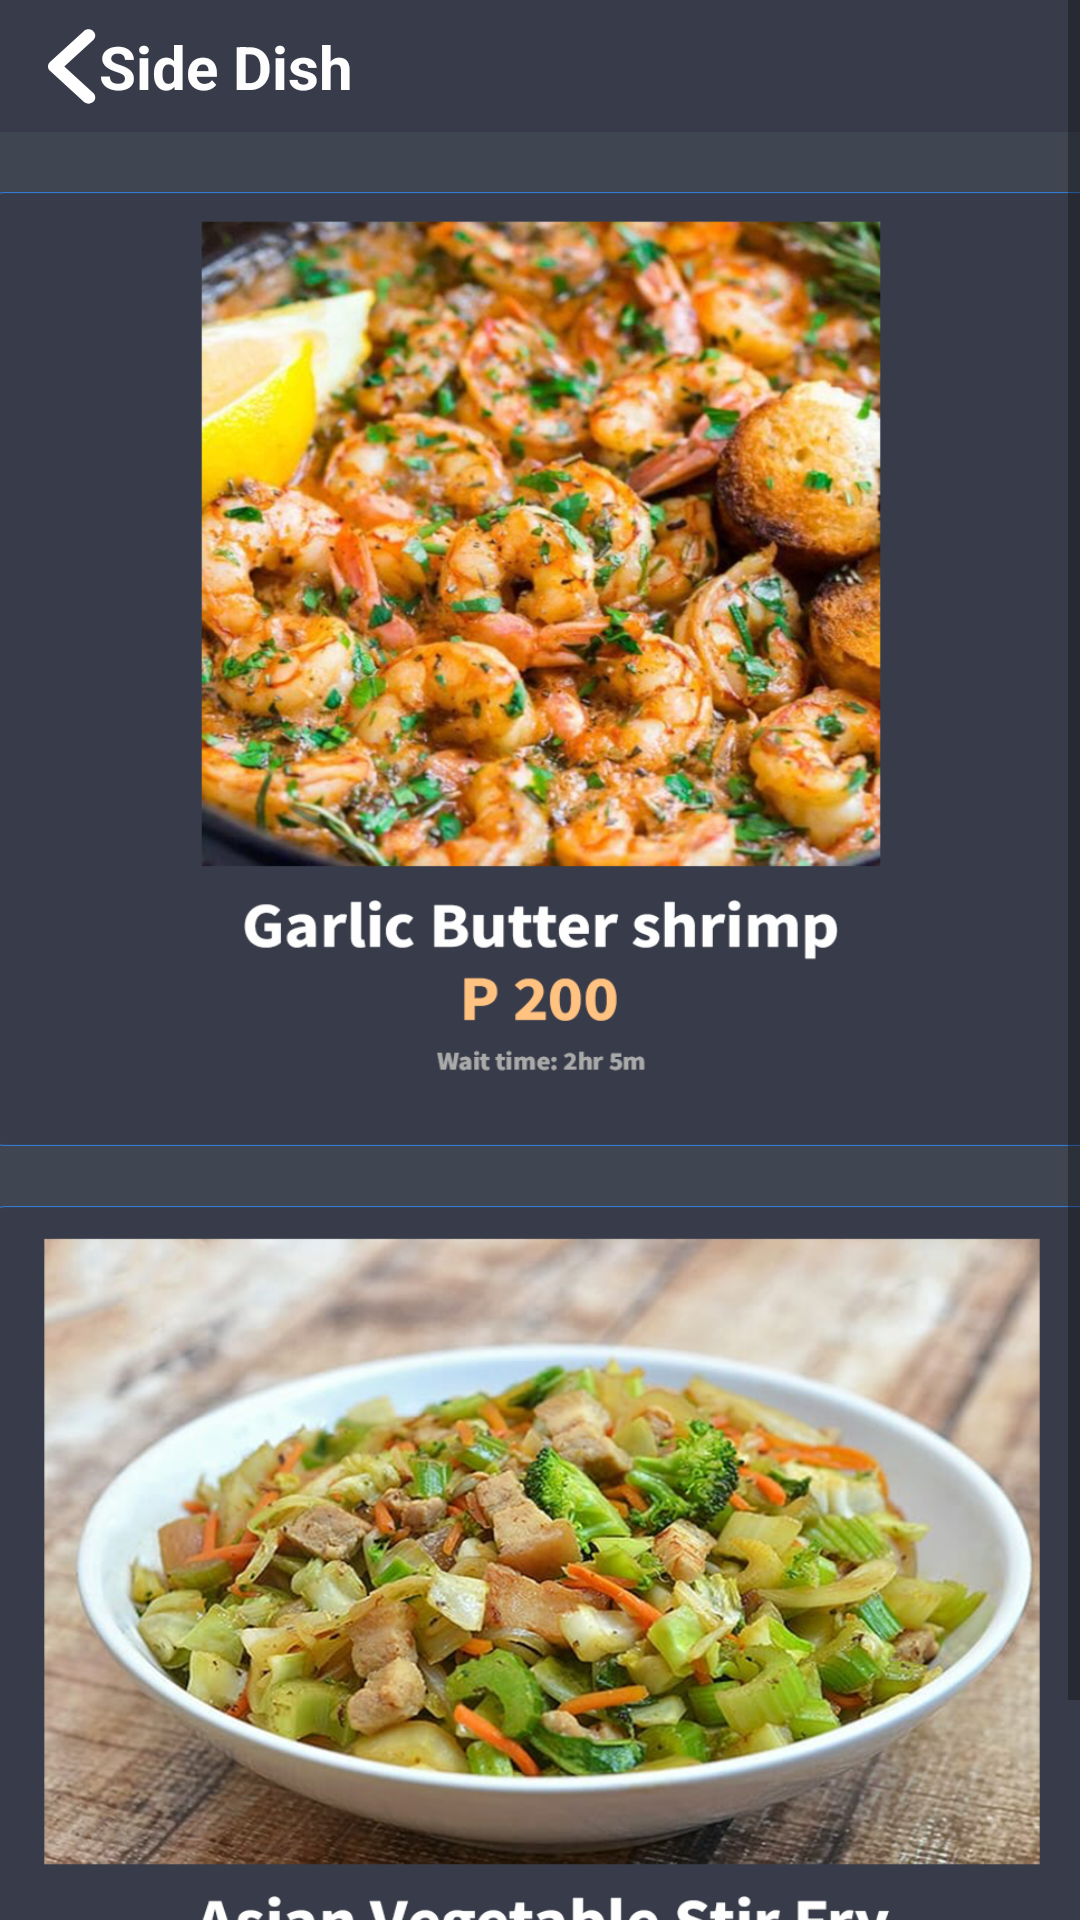

Icon bounding boxes for this 1080w x 1920h phone screenshot, format bbox=(x1, y1, x2, y2):
angle left: bbox=(48, 29, 96, 104)
